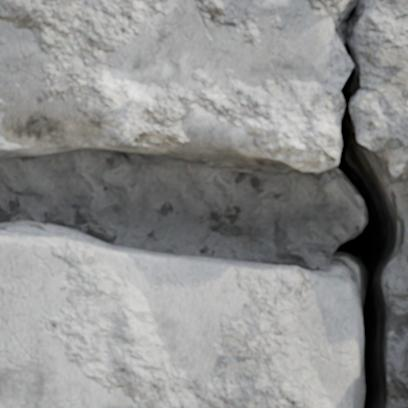brick: (0, 220, 363, 407)
broken_brick: (0, 0, 352, 176), (350, 0, 407, 184)
crack: (326, 0, 407, 407)
